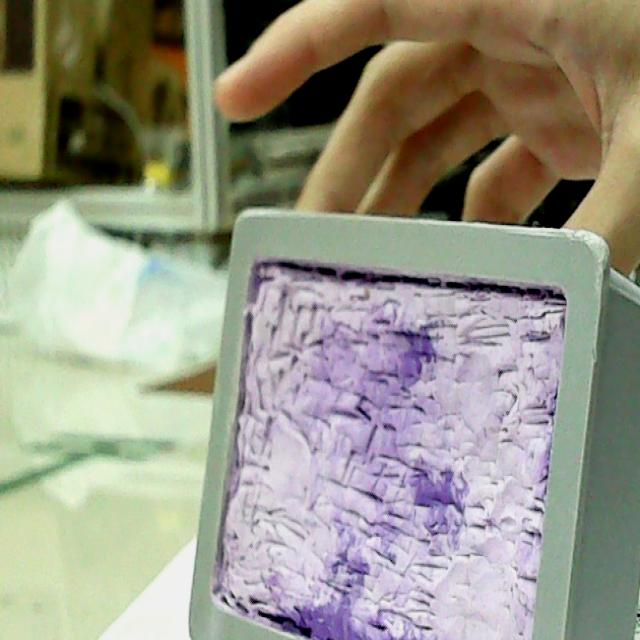block: (181, 207, 640, 640)
